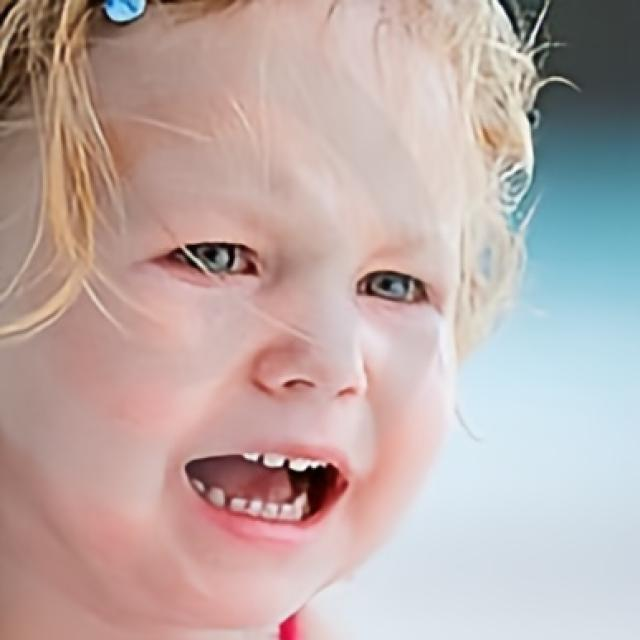sad: (0, 0, 469, 632)
